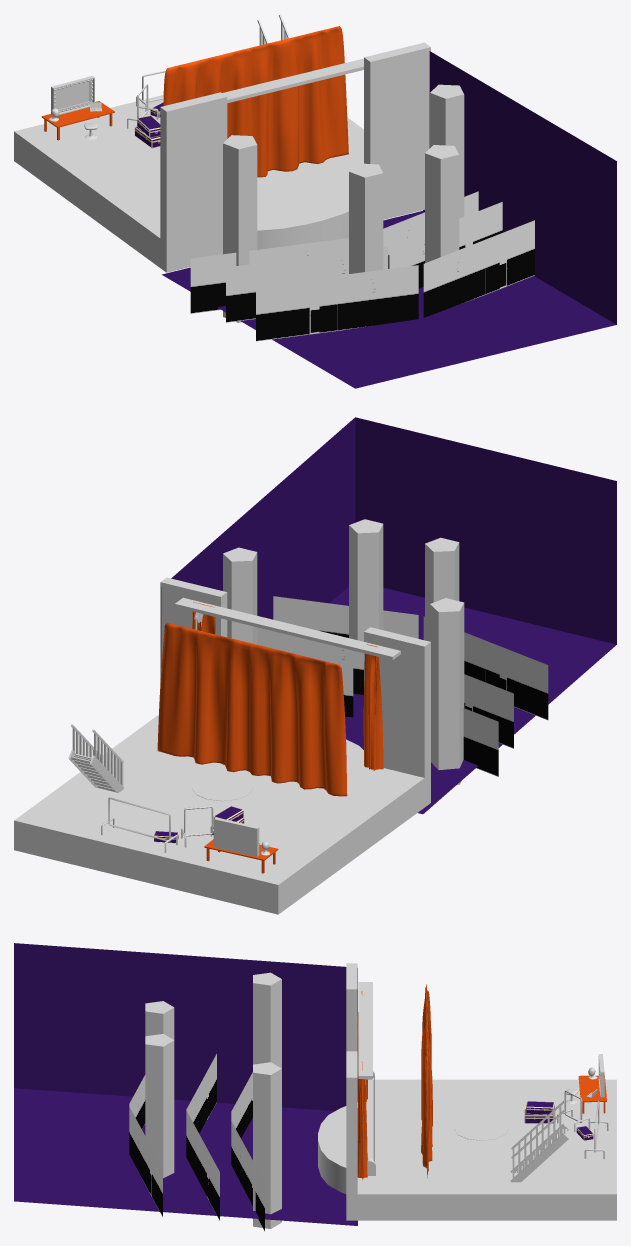
Rendered from ScenaryAlfa3.fbx.
The picture shows the model from 3 angles, top to bottom: view 1: azimuth 30°, elevation 25°; view 2: azimuth 150°, elevation 25°; view 3: azimuth 270°, elevation 25°; orthographic projection. The views are drawn at different scales.
Parts seen in each view (by area): view 1: Teatro base, Plano, Telon Atras, publico().002, Cilindro, publico().001, publico(), cuerda telon, Luces.003, mesa; view 2: Plano, Teatro base, Telon Atras, Cilindro, publico().002, publico().001, cuerda telon, publico(), escalera, Telon izquierda, Luces.003, Círculo.001; view 3: Plano, Teatro base, Cilindro, publico().001, publico(), publico().002, escalera, Telon Atras, cuerda telon, Círculo.001, Telon derecha, mesa.
Boxes of the visible parts, box(x1,y1,x2,y2) form: Teatro base: box(14, 42, 430, 272); Plano: box(162, 51, 616, 388); Telon Atras: box(163, 26, 348, 177); publico().002: box(256, 220, 534, 341); Cilindro: box(223, 84, 464, 322); publico().001: box(226, 202, 502, 322); publico(): box(190, 191, 478, 313); cuerda telon: box(222, 58, 363, 103); Luces.003: box(51, 76, 94, 115); mesa: box(41, 101, 114, 140); Plano: box(161, 417, 616, 814); Teatro base: box(14, 577, 430, 914); Telon Atras: box(157, 622, 347, 796); Cilindro: box(223, 519, 464, 784); publico().002: box(273, 596, 548, 720); publico().001: box(257, 627, 513, 748); cuerda telon: box(175, 597, 400, 660); publico(): box(341, 666, 498, 776); escalera: box(68, 724, 123, 792); Telon izquierda: box(363, 644, 383, 770); Luces.003: box(213, 817, 259, 856); Círculo.001: box(192, 775, 252, 801); Plano: box(14, 943, 357, 1225); Teatro base: box(318, 963, 616, 1220); Cilindro: box(145, 972, 281, 1228); publico().001: box(186, 1054, 219, 1220); publico(): box(231, 1072, 264, 1231); publico().002: box(129, 1075, 162, 1216); escalera: box(510, 1100, 568, 1182); Telon Atras: box(421, 984, 432, 1177); cuerda telon: box(358, 982, 372, 1078); Círculo.001: box(454, 1117, 508, 1140); Telon derecha: box(357, 1062, 367, 1179); mesa: box(578, 1075, 606, 1113).
Bounding box in the file's own units: 1164 × 726 × 2227.
